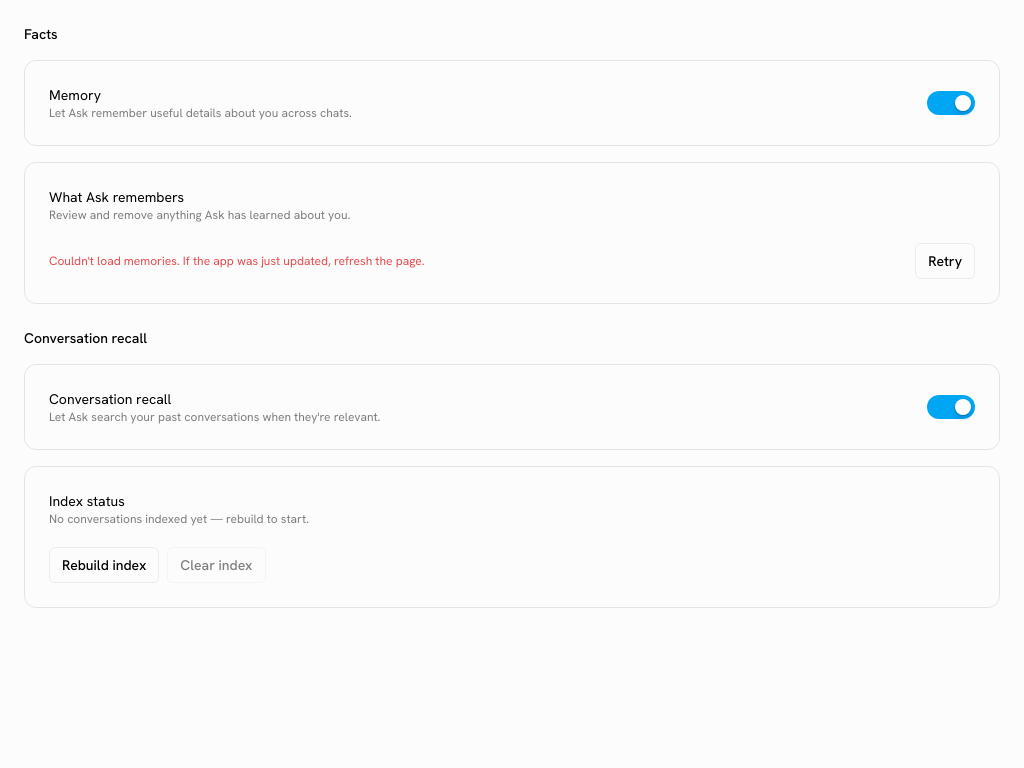
Test case: MemoryTab initial load › recovers via the Retry button once the backend is reachable again
The image size is (1024, 768).
Click the button "Retry" at (945, 261), box 915,243 -> 975,279
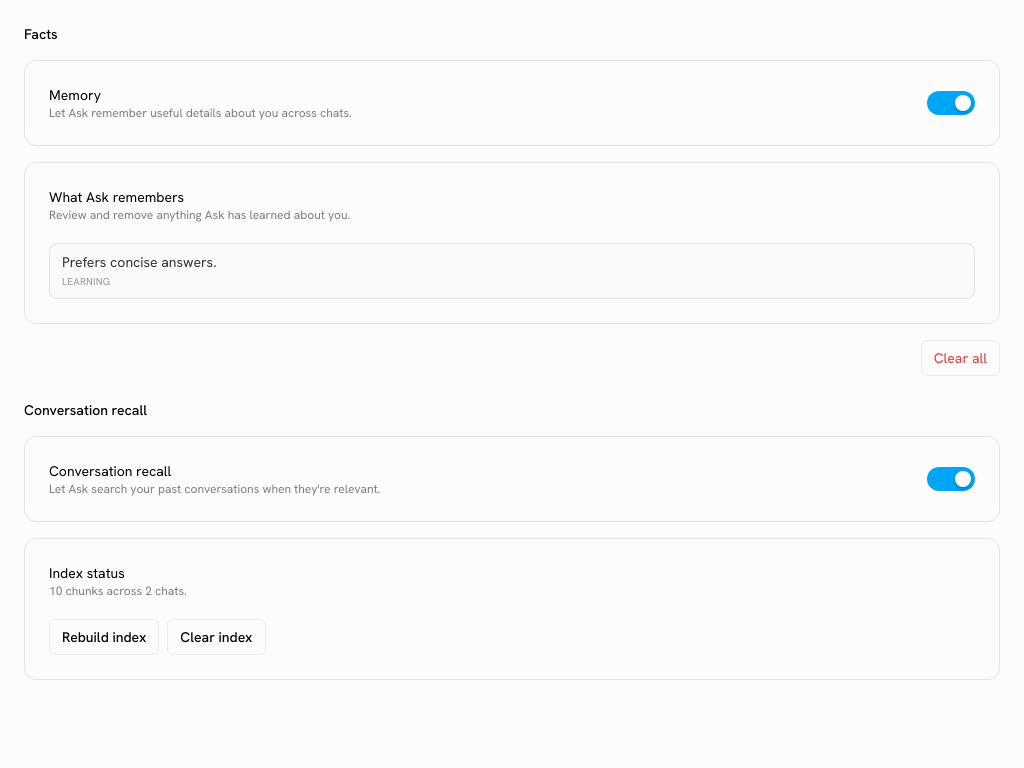
Now the text "Prefers concise answers." is shown, box 62,252 -> 216,272
Now the text "Couldn't load memories" is gone
